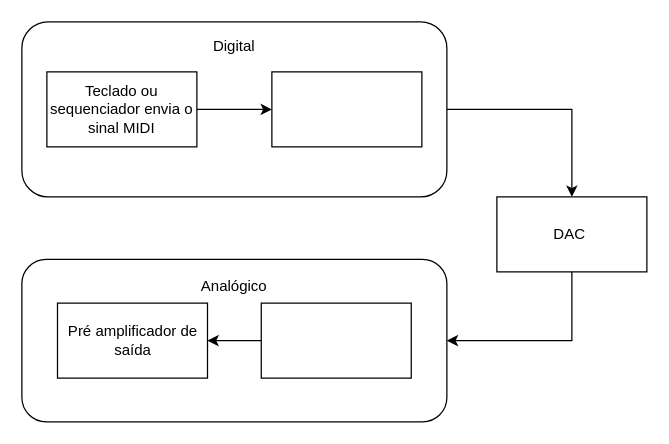
Some shapes in this 669 by 444 pixel diagram are drawn without their labels. The centre of each missing label's shape, as x and y in pixels:
Envelope ADSR: point (335, 340)
uC gera as formas de onda: point (346, 109)
